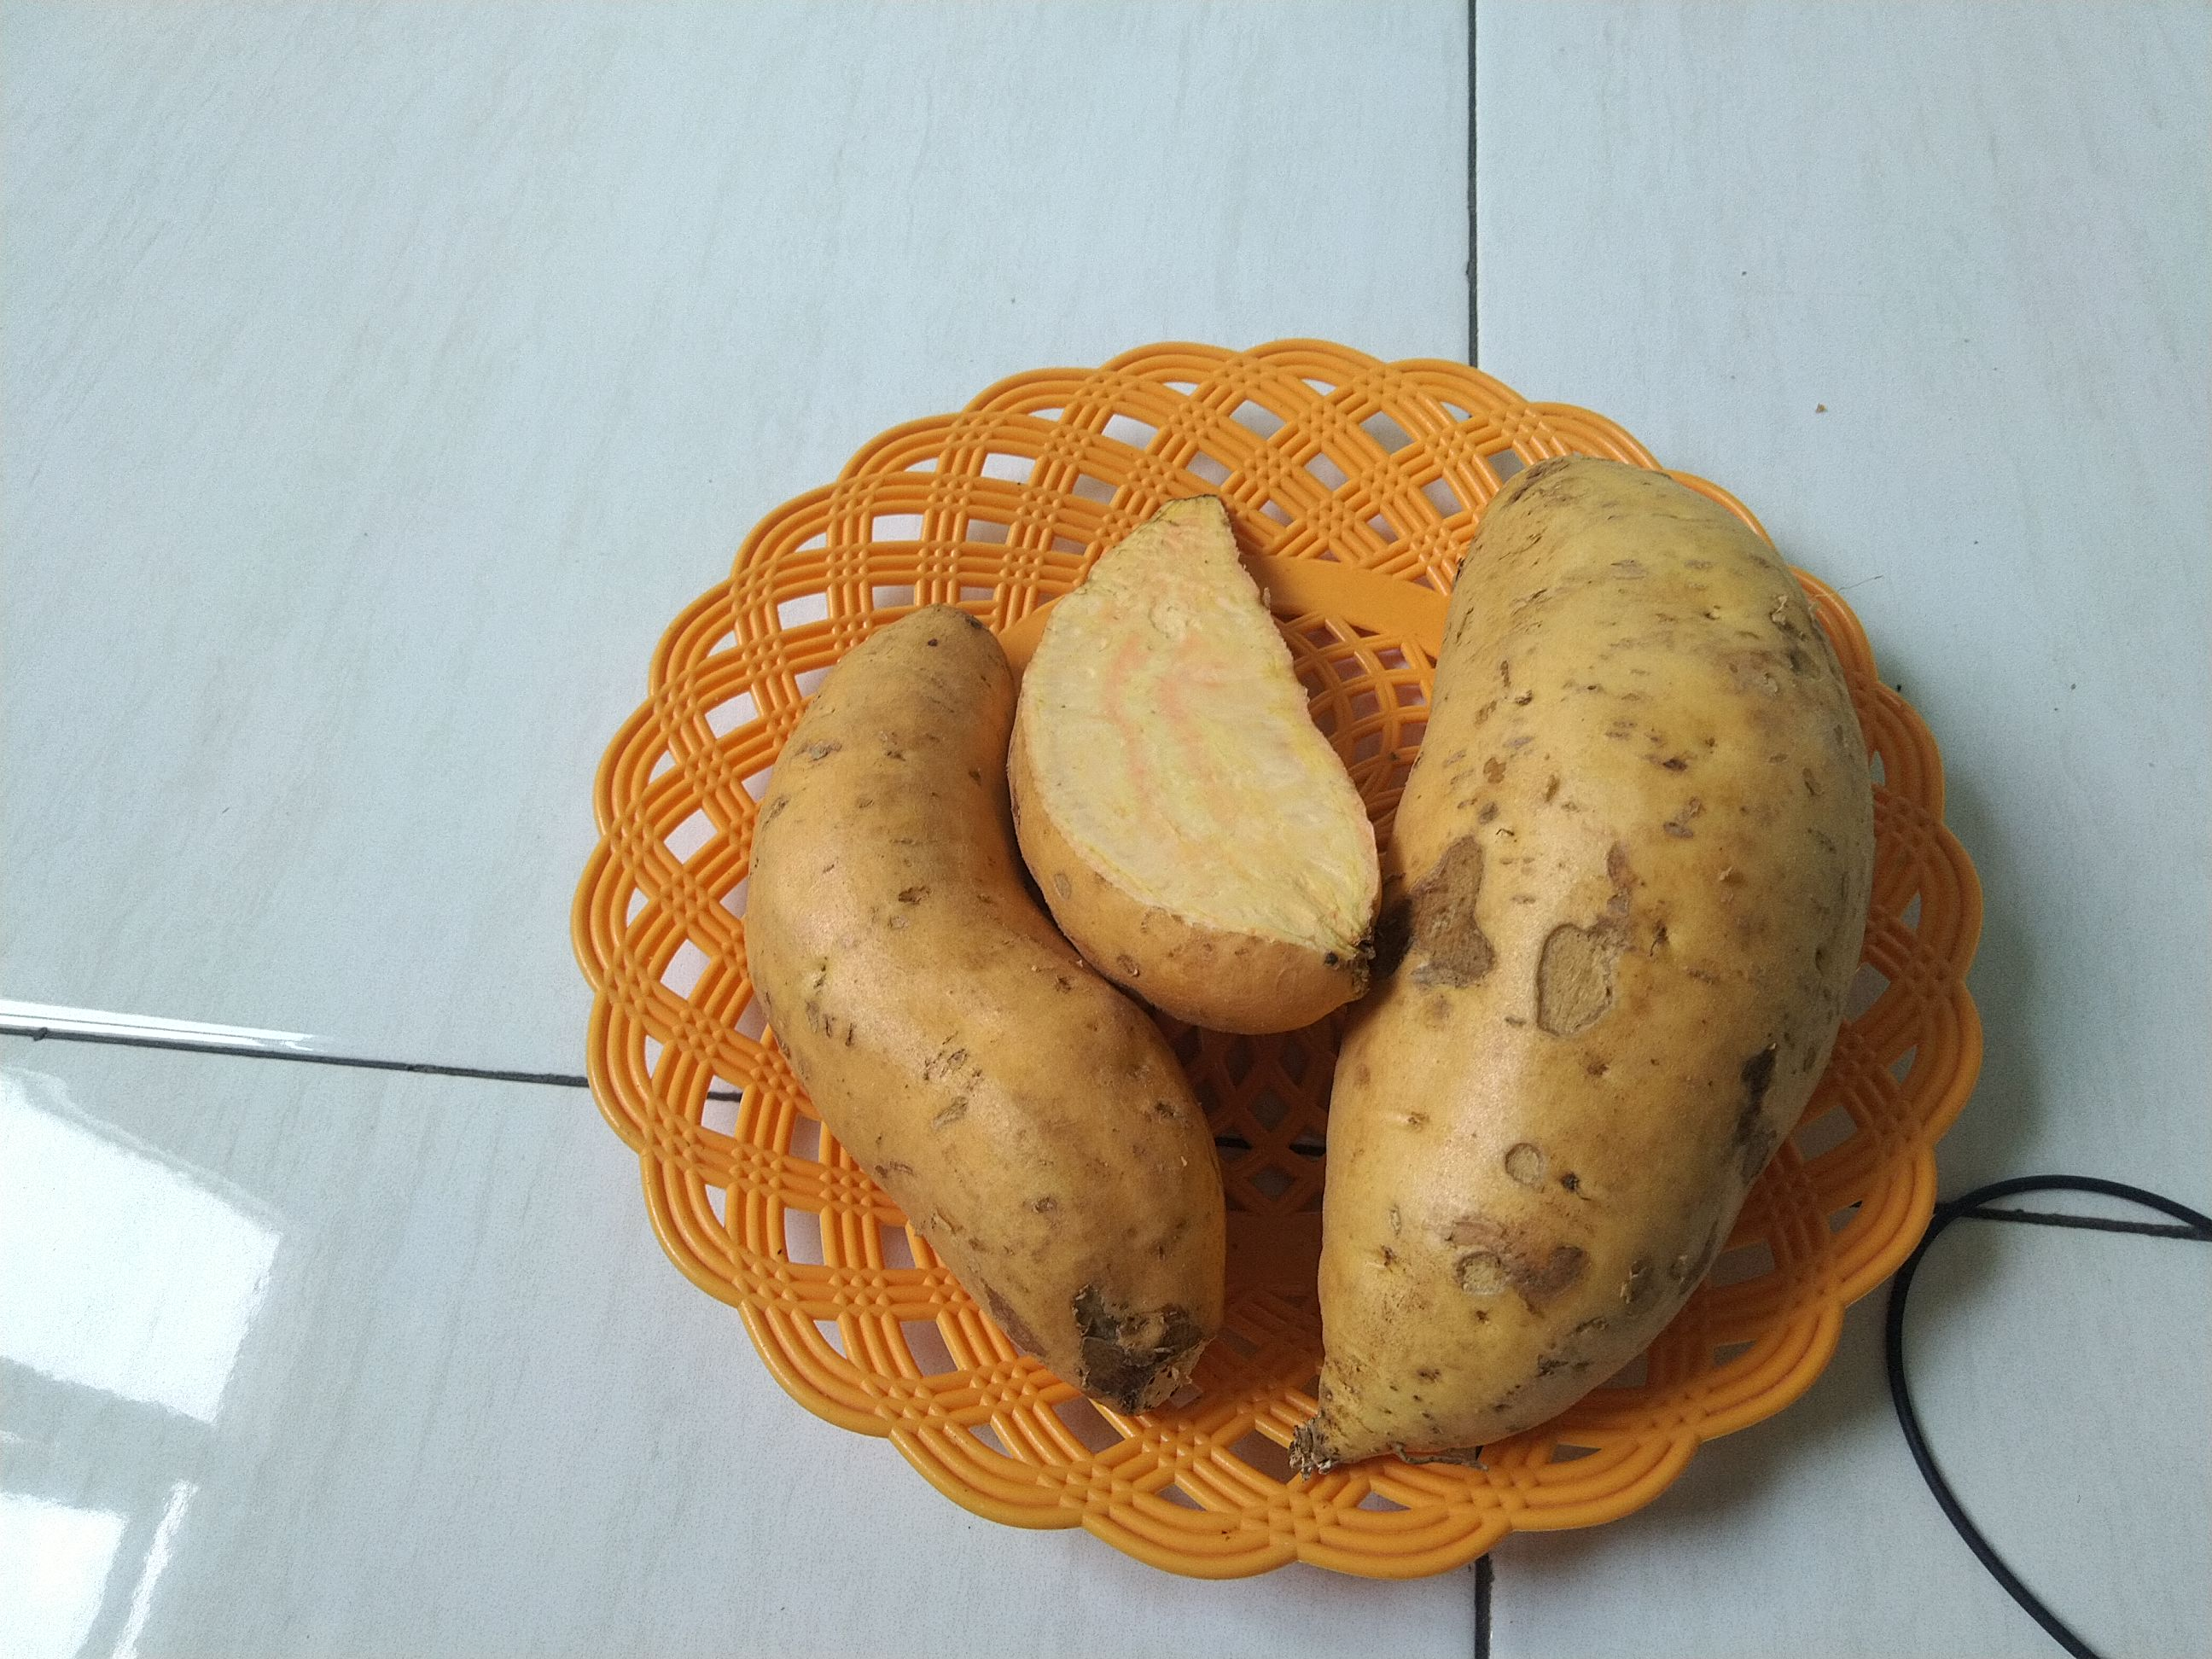ubi cilembu: (733, 436, 1890, 1469), (1305, 451, 1883, 1480), (737, 592, 1249, 1419), (1012, 483, 1393, 1032)
